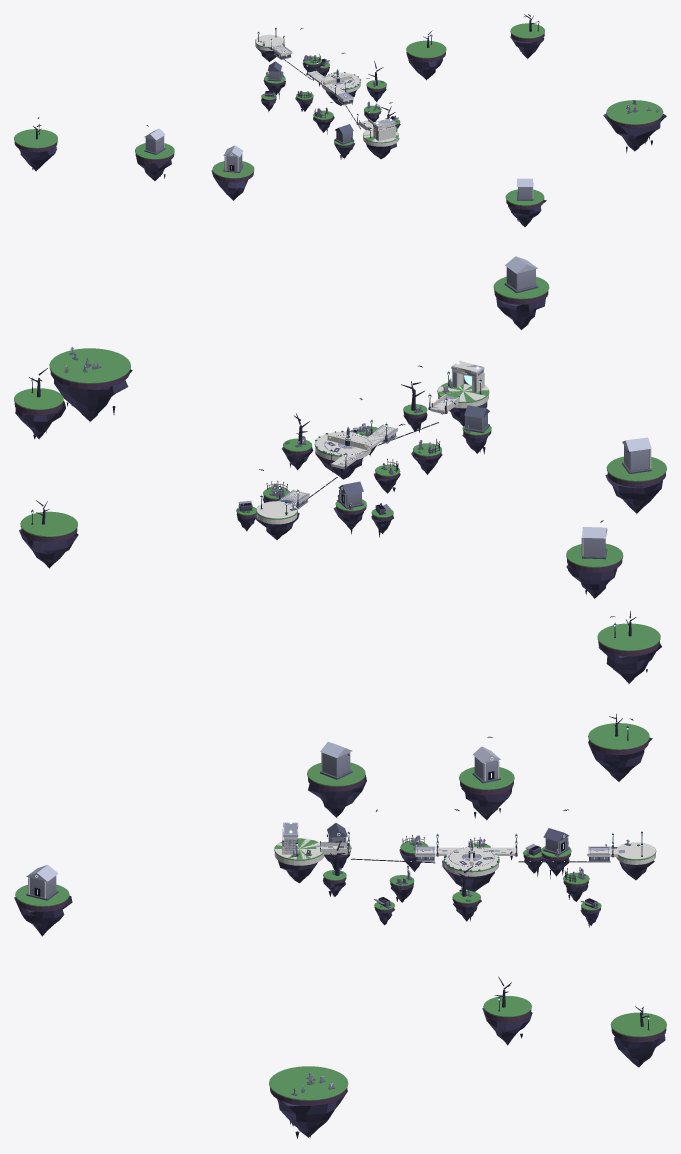
The picture shows the model from 3 angles, top to bottom: view 1: azimuth 30°, elevation 25°; view 2: azimuth 150°, elevation 25°; view 3: azimuth 270°, elevation 25°; orthographic projection. The views are drawn at different scales.
Visible parts, largest first — view 1: V_moss, V_rock, V_dirt, C_0, V_stone, V_stone_dark, V_stone_light, V_iron, C_1; view 2: V_moss, V_rock, V_dirt, V_stone, C_0, V_stone_dark, V_stone_light, V_iron; view 3: V_moss, V_rock, C_0, V_dirt, V_stone, V_stone_dark, V_stone_light, V_iron.
Part boxes in pixels (x1,y1,x2,y2): V_moss: [14, 23, 663, 205]; V_rock: [18, 36, 666, 226]; V_dirt: [14, 33, 662, 209]; C_0: [255, 34, 398, 146]; V_stone: [145, 41, 657, 198]; V_stone_dark: [144, 43, 658, 200]; V_stone_light: [144, 82, 533, 186]; V_iron: [38, 21, 539, 138]; C_1: [373, 118, 395, 141]; V_moss: [14, 276, 666, 651]; V_rock: [15, 298, 662, 683]; V_dirt: [14, 290, 665, 656]; V_stone: [65, 267, 649, 556]; C_0: [256, 381, 488, 524]; V_stone_dark: [64, 283, 651, 559]; V_stone_light: [339, 256, 651, 538]; V_iron: [31, 371, 616, 637]; V_moss: [15, 723, 666, 1100]; V_rock: [14, 737, 665, 1138]; C_0: [274, 838, 655, 876]; V_dirt: [16, 740, 666, 1105]; V_stone: [28, 752, 629, 1094]; V_stone_dark: [26, 770, 631, 1095]; V_stone_light: [26, 742, 500, 881]; V_iron: [296, 726, 649, 1030].
Size of the model in its own units: 172 by 32.16 by 131.
